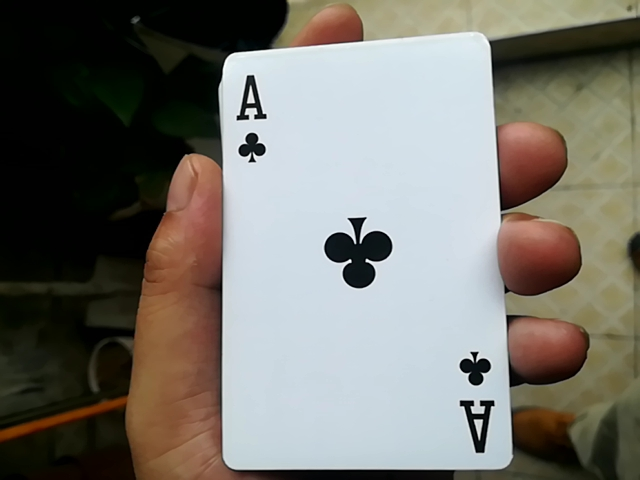mh a: (208, 24, 517, 470)
